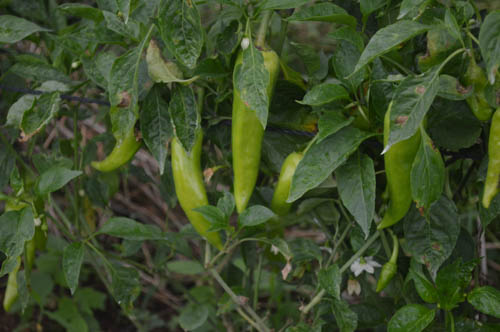ChiliPepper: (222, 39, 278, 224), (166, 102, 225, 252), (373, 98, 429, 234), (91, 103, 144, 180), (272, 144, 310, 233), (480, 107, 500, 215), (460, 58, 492, 119)
